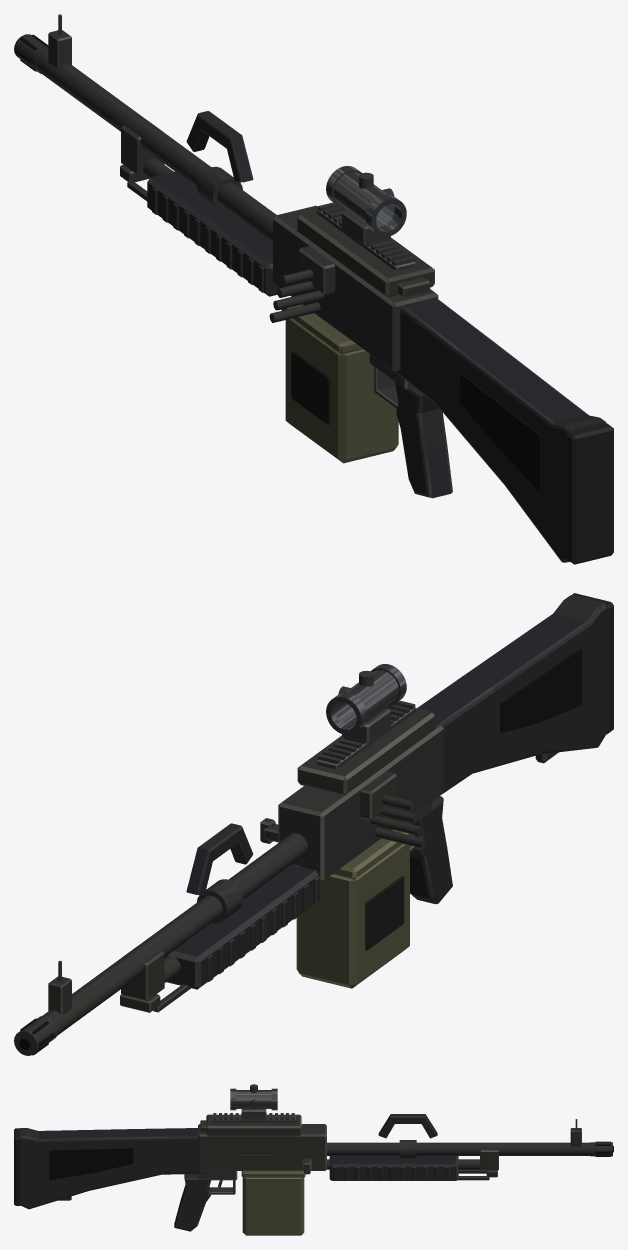
Rendered from lmg.glb.
3 renders of one model, top to bottom at view 1: azimuth 30°, elevation 25°; view 2: azimuth 150°, elevation 25°; view 3: azimuth 270°, elevation 25°, orthographic. The views are drawn at different scales.
Visible parts, largest first — view 1: lmg_poly, lmg_steel, lmg_mag, lmg_alu, lmg_dark; view 2: lmg_poly, lmg_steel, lmg_mag, lmg_alu, lmg_dark; view 3: lmg_poly, lmg_steel, lmg_mag, lmg_alu, lmg_dark, lmg_cover.
Part boxes in pixels (bbox=[...]): lmg_poly: bbox=[147, 111, 613, 564]; lmg_steel: bbox=[14, 14, 438, 391]; lmg_mag: bbox=[281, 304, 398, 463]; lmg_alu: bbox=[317, 166, 415, 408]; lmg_dark: bbox=[14, 35, 541, 491]; lmg_poly: bbox=[164, 593, 613, 989]; lmg_steel: bbox=[14, 708, 443, 1055]; lmg_mag: bbox=[296, 829, 414, 988]; lmg_alu: bbox=[317, 664, 432, 852]; lmg_dark: bbox=[19, 649, 581, 1055]; lmg_poly: bbox=[14, 1114, 458, 1231]; lmg_steel: bbox=[198, 1114, 612, 1187]; lmg_mag: bbox=[241, 1170, 305, 1235]; lmg_alu: bbox=[198, 1084, 295, 1194]; lmg_dark: bbox=[49, 1141, 613, 1179]; lmg_cover: bbox=[239, 1154, 274, 1164].
Size of the model in its own units: 0.14 by 0.2845 by 1.07.
